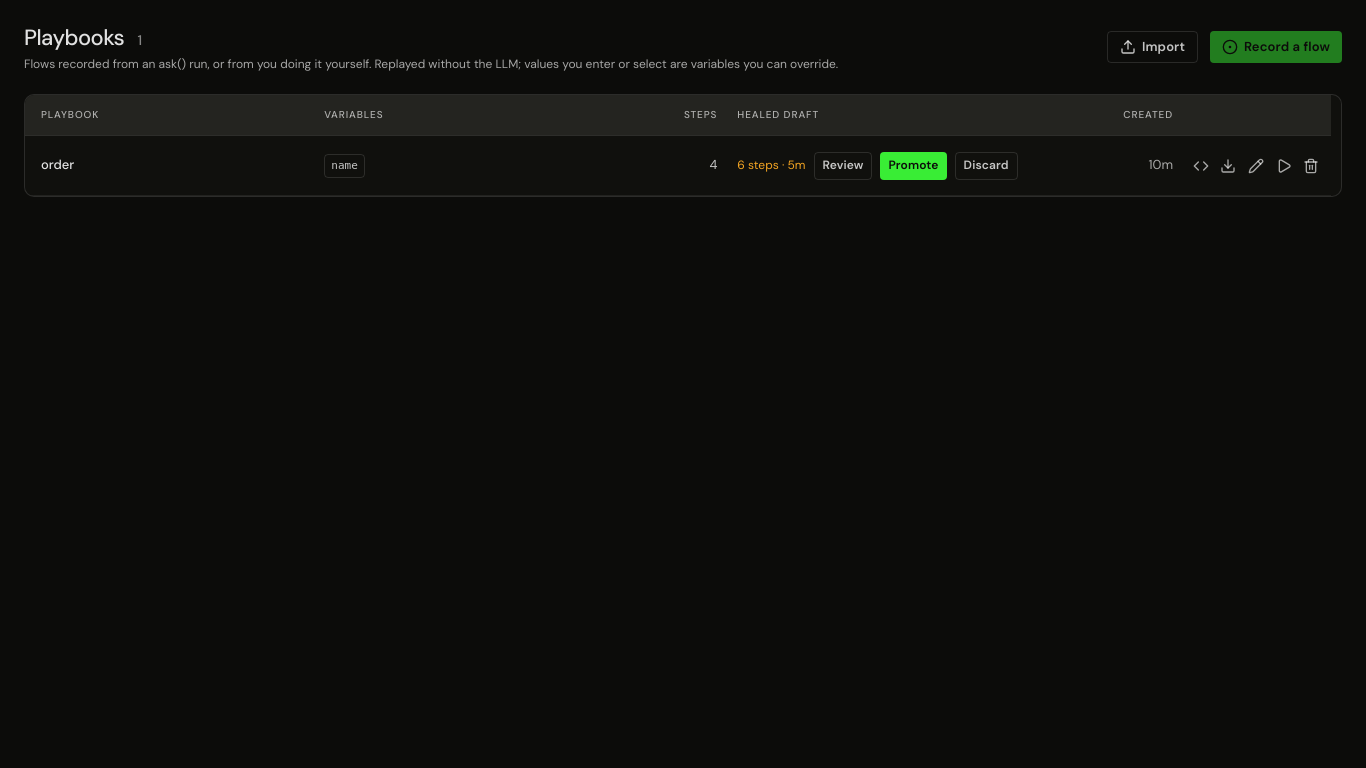
PlaybooksTab › deletes a playbook only after confirmation
Click the button named "Delete order" at x=1311, y=166, box [1299,150,1323,182]
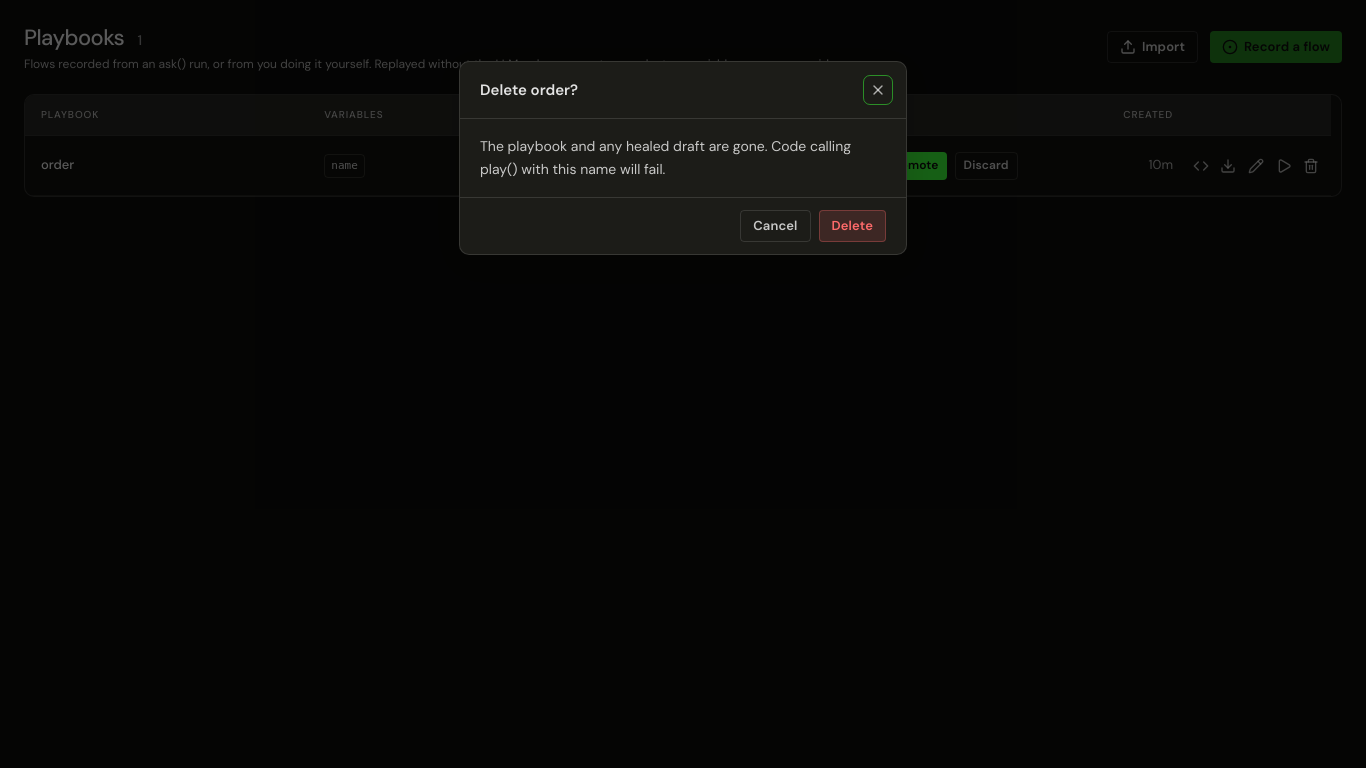
Now the heading "Delete order?" is shown, box [480,78,578,102]
Click the button "Delete" at x=852, y=226, box [818,210,886,242]
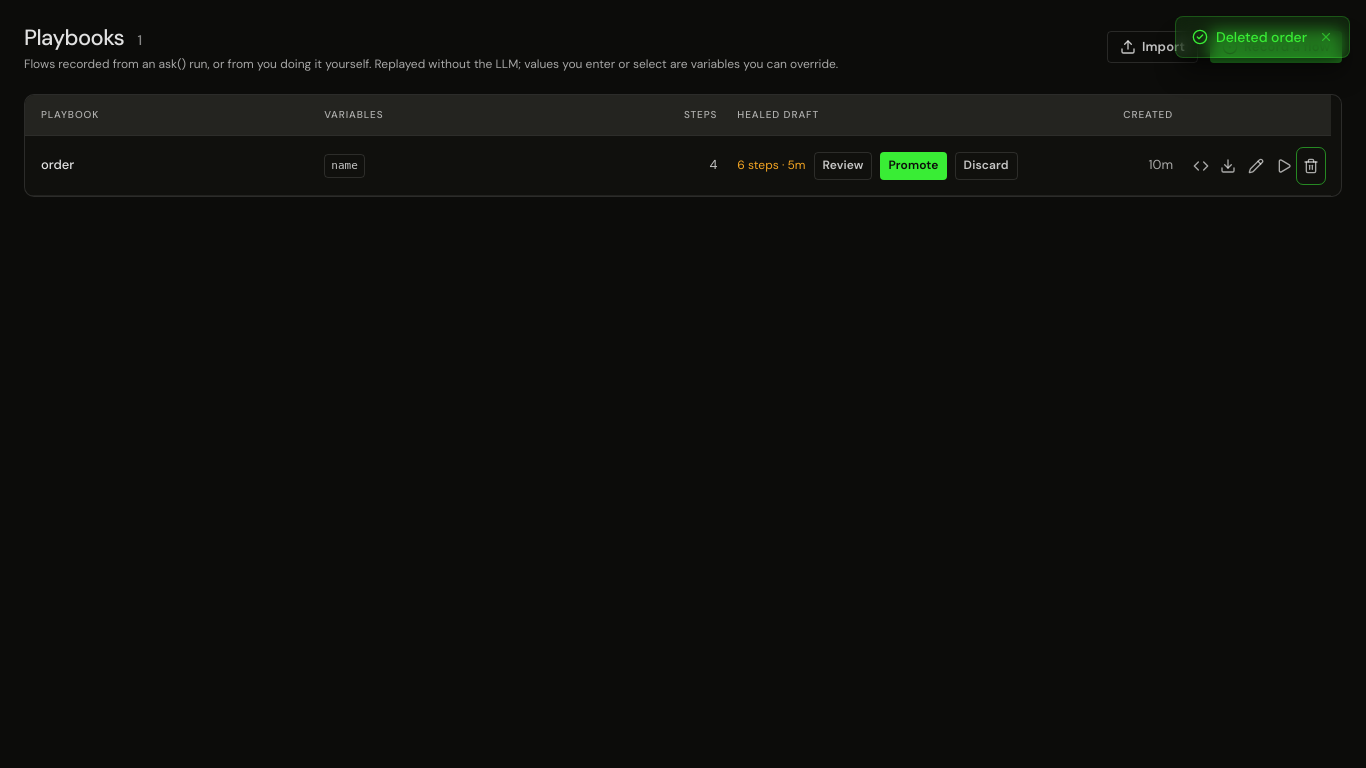
Now the text "Deleted order" is shown, box [1216,27,1307,47]
